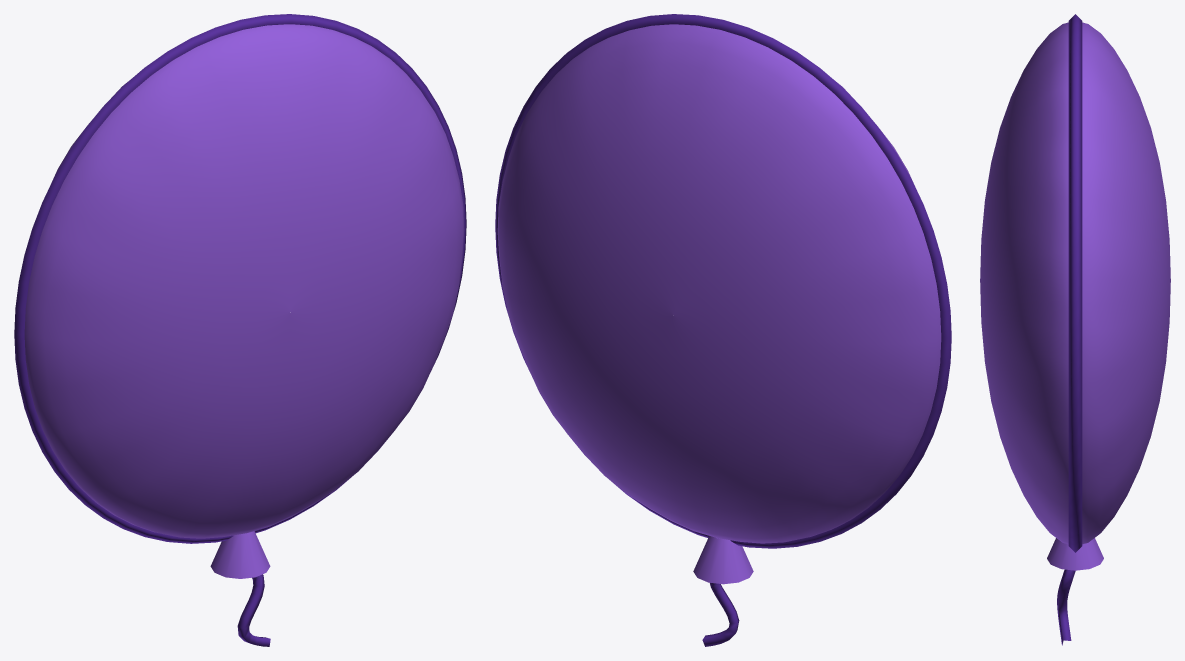
File: balloon-round.glb
The picture shows the model from 3 angles, left to right: view 1: azimuth 30°, elevation 25°; view 2: azimuth 150°, elevation 25°; view 3: azimuth 270°, elevation 25°; orthographic projection. The views are drawn at different scales.
Visible parts, largest first — view 1: balloon-round; view 2: balloon-round; view 3: balloon-round.
Part boxes in pixels (x1=…): balloon-round: x1=14, y1=14, x2=466, y2=646; balloon-round: x1=495, y1=14, x2=951, y2=646; balloon-round: x1=980, y1=14, x2=1170, y2=645.
Size of the model in its own units: 0.802 by 1.07 by 0.306.
